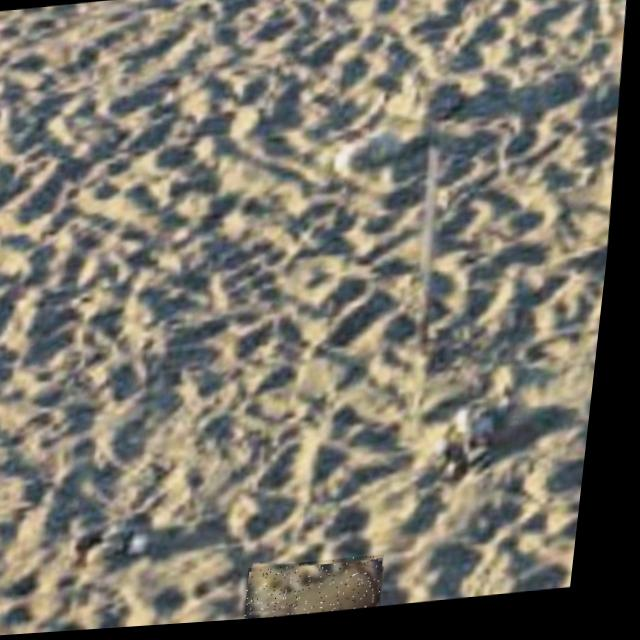Person in Rubble: (257, 559, 399, 624)
